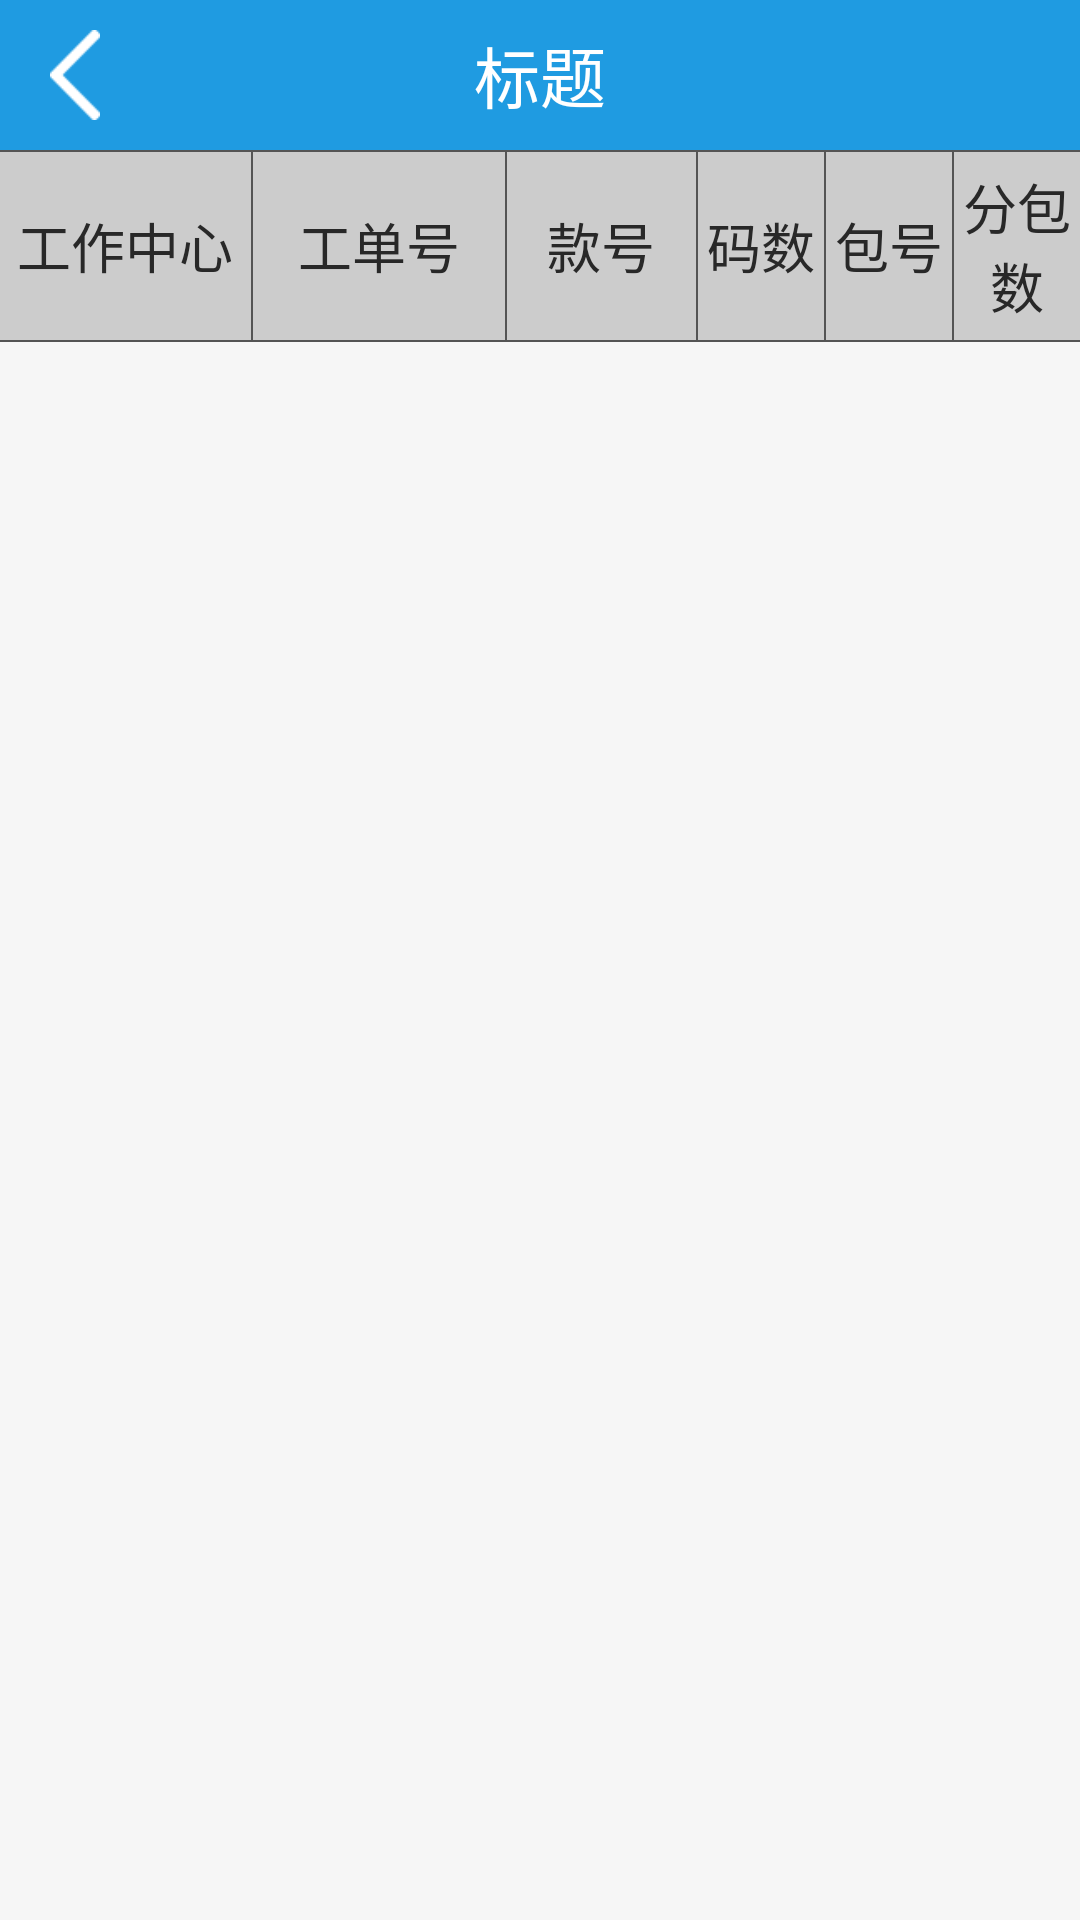

Named icons in this screenshot (1080 x 1920) and their bounding boxes, (x1, y1, x2, y2):
back: (50, 30, 100, 120)
